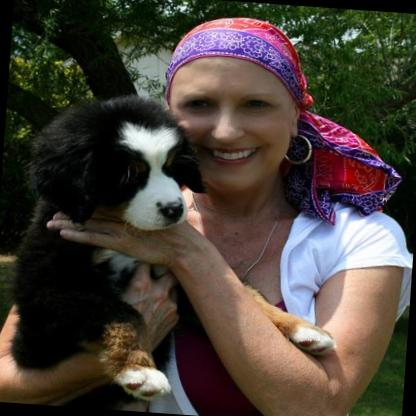Bernese_mountain_dog: (2, 86, 350, 416)
